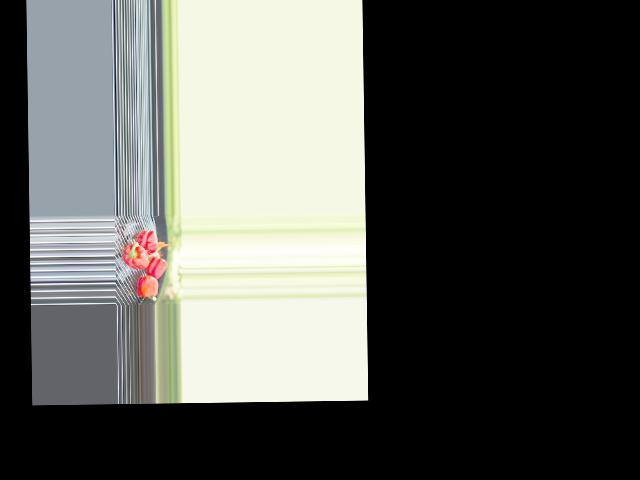bell_pepper: (137, 229, 159, 255)
